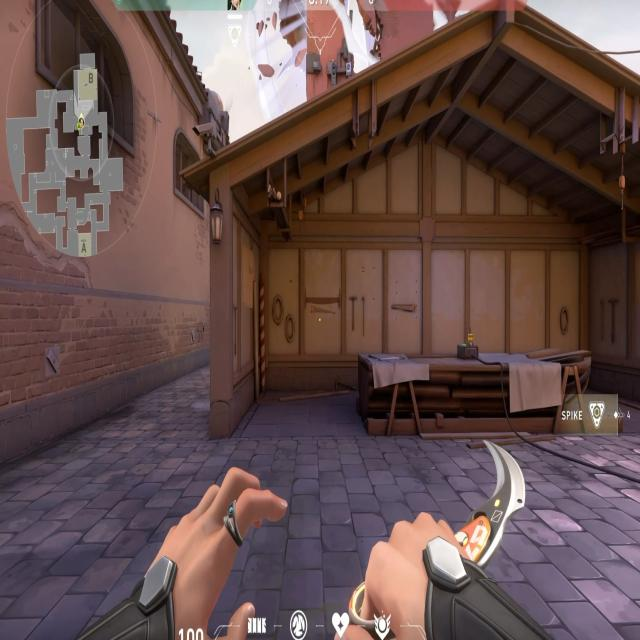B_Garage_Left: (206, 160, 389, 428)
B_Garage_Right: (555, 178, 640, 420)
Throwables: (25, 0, 147, 162), (169, 121, 211, 222)
